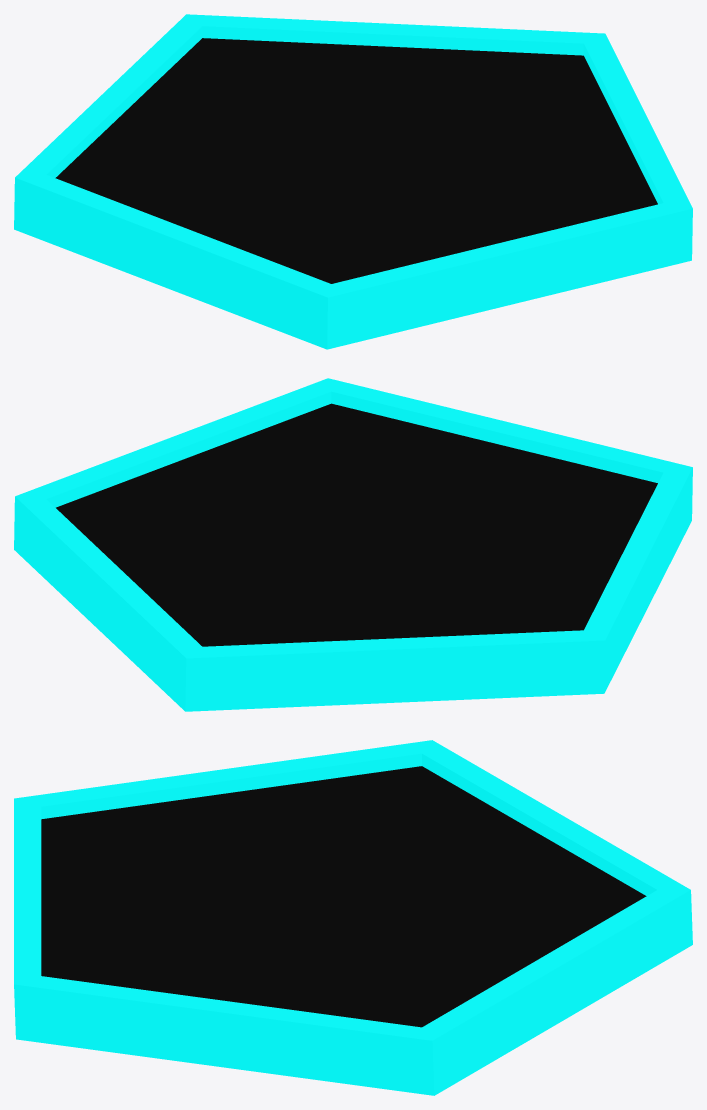
Rendered from SFI0210035.fbx.
3 renders of one model, top to bottom at view 1: azimuth 30°, elevation 25°; view 2: azimuth 150°, elevation 25°; view 3: azimuth 270°, elevation 25°, orthographic. The views are drawn at different scales.
Parts seen in each view (by area): view 1: smSFI0210035; view 2: smSFI0210035; view 3: smSFI0210035.
Boxes of the visible parts, box(x1,y1,x2,y2) form: smSFI0210035: box(14, 14, 692, 349); smSFI0210035: box(14, 378, 692, 711); smSFI0210035: box(14, 740, 692, 1095).
Bounding box in the file's own units: 137 × 11.99 × 130.
